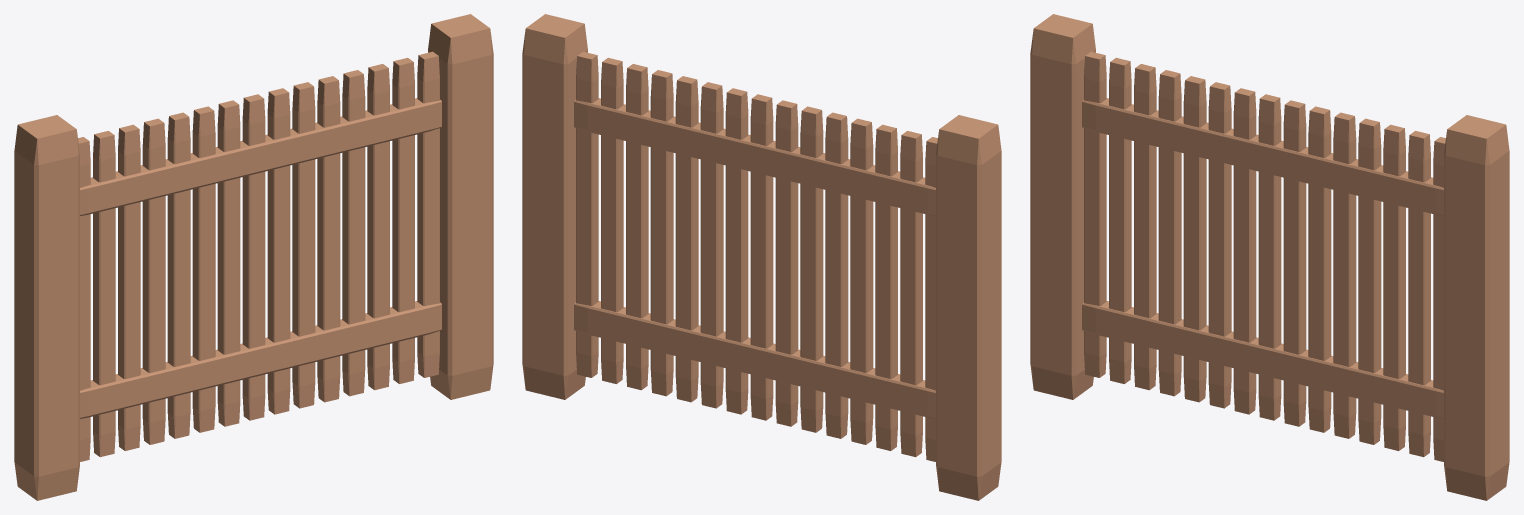
Rendered from b19_board_batten_fence.glb.
3 renders of one model, left to right at view 1: azimuth 30°, elevation 25°; view 2: azimuth 150°, elevation 25°; view 3: azimuth 330°, elevation 25°, orthographic.
Visible parts, largest first — view 1: b19_board_batten_fence; view 2: b19_board_batten_fence; view 3: b19_board_batten_fence.
Part boxes in pixels (bbox=[...]): b19_board_batten_fence: bbox=[14, 14, 493, 500]; b19_board_batten_fence: bbox=[522, 14, 1001, 500]; b19_board_batten_fence: bbox=[1030, 14, 1509, 500].
Size of the model in its own units: 2.62 by 1.97 by 0.225.
